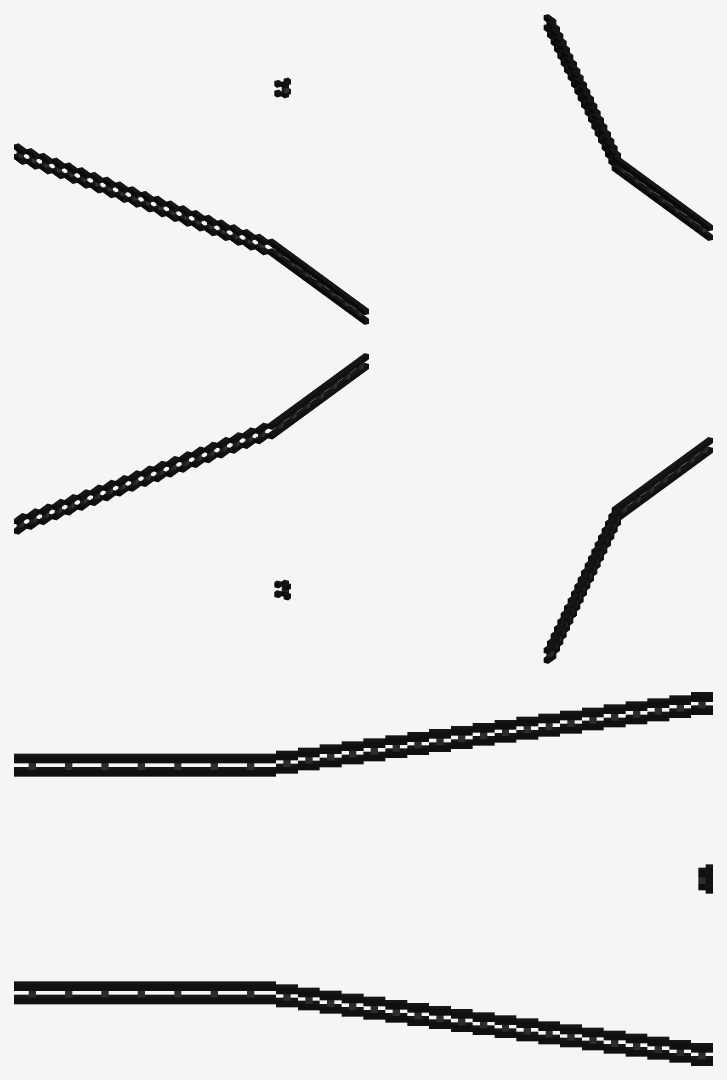
Rendered from Split_0-3.obj.
The picture shows the model from 3 angles, top to bottom: view 1: azimuth 30°, elevation 25°; view 2: azimuth 150°, elevation 25°; view 3: azimuth 270°, elevation 25°; orthographic projection. The views are drawn at different scales.
Parts seen in each view (by area): view 1: Split_0-3; view 2: Split_0-3; view 3: Split_0-3.
Part boxes in pixels (left/top/right/bottom): Split_0-3: left=14, top=14, right=712, bottom=324; Split_0-3: left=14, top=353, right=712, bottom=663; Split_0-3: left=14, top=692, right=712, bottom=1065.
Size of the model in its own units: 115 by 3 by 96.
1 material, 1 textured.
